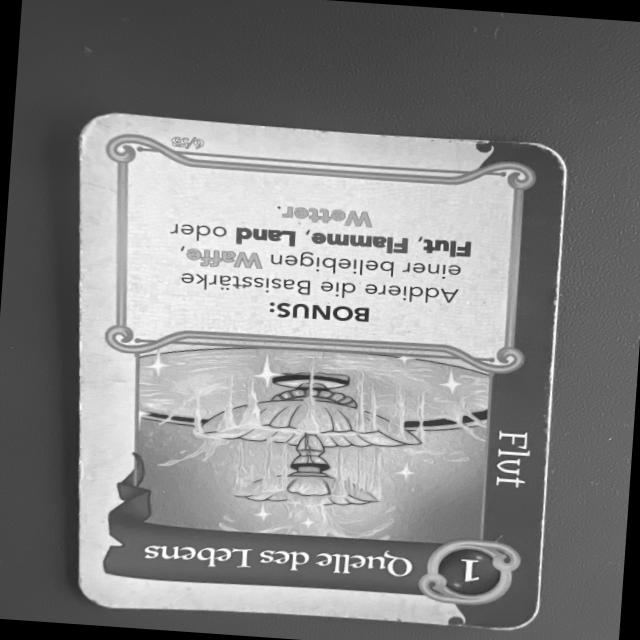Fountain Of Life: (67, 105, 578, 637)
